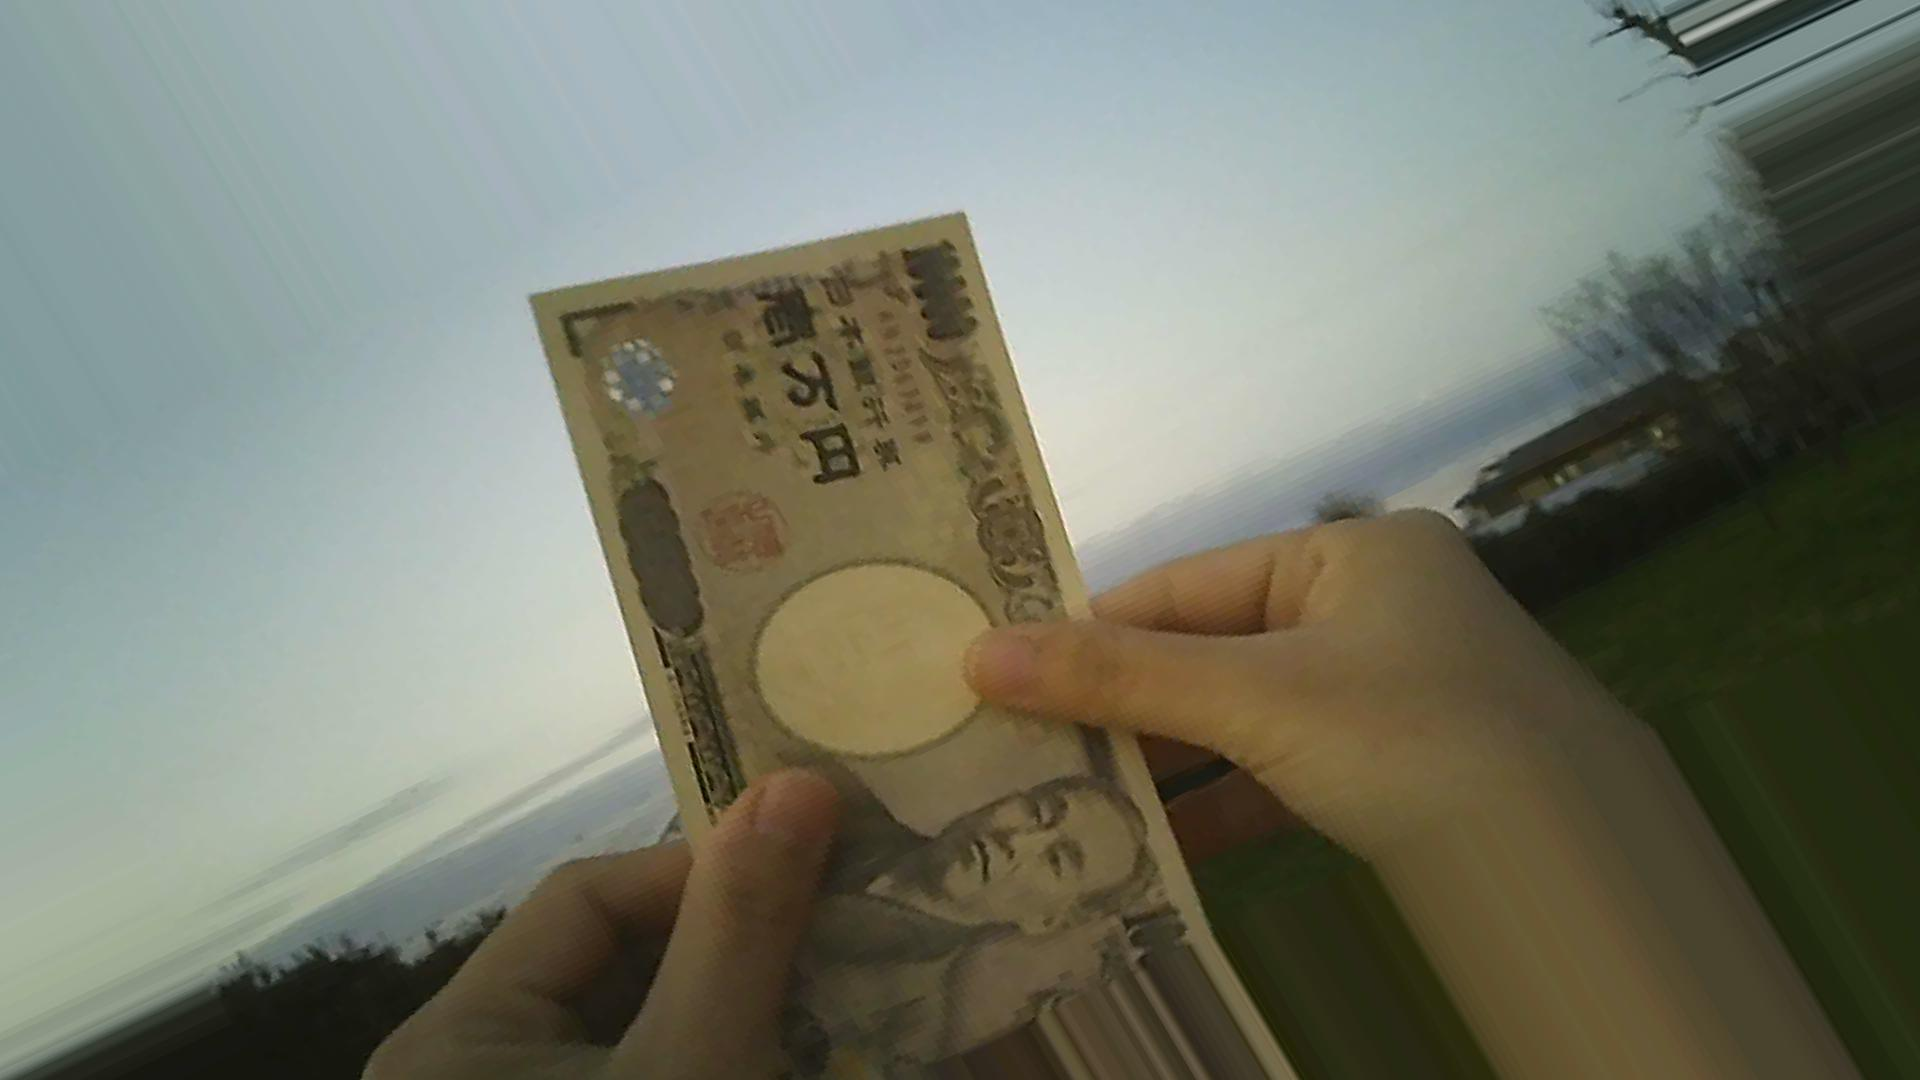10,000 Yen: (531, 227, 1241, 982)
